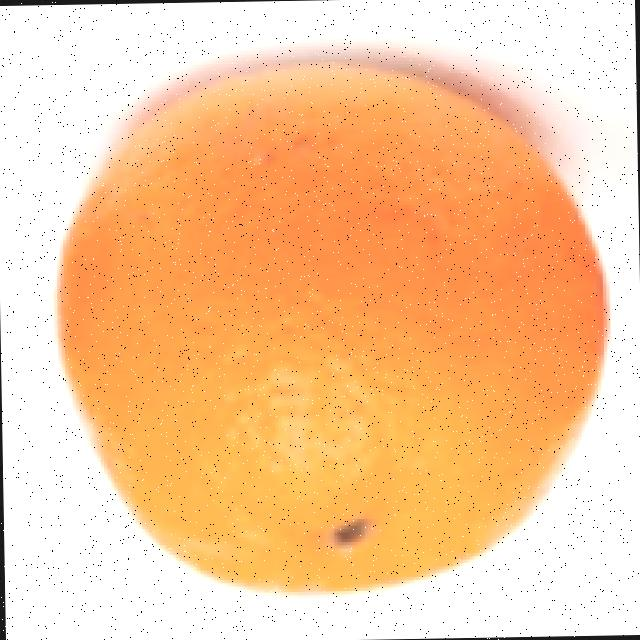orange: (46, 56, 616, 602)
